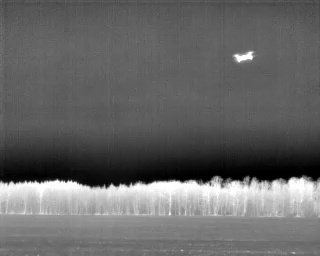DRONE: (229, 46, 259, 69)
